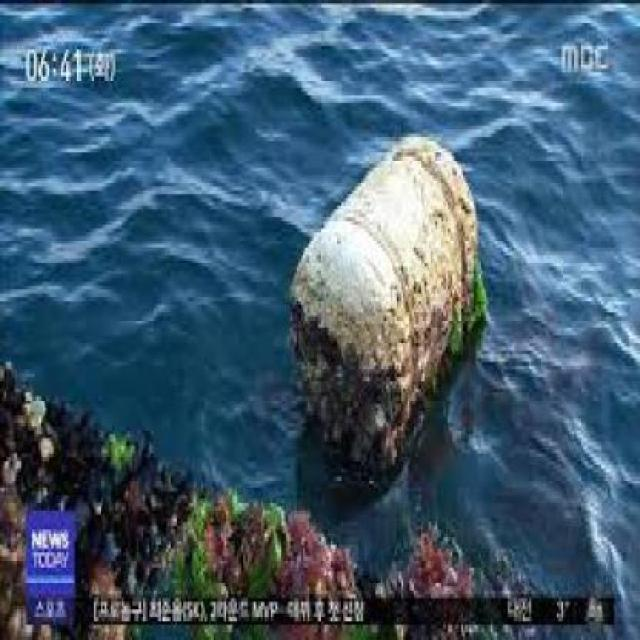a: (278, 108, 507, 420)
